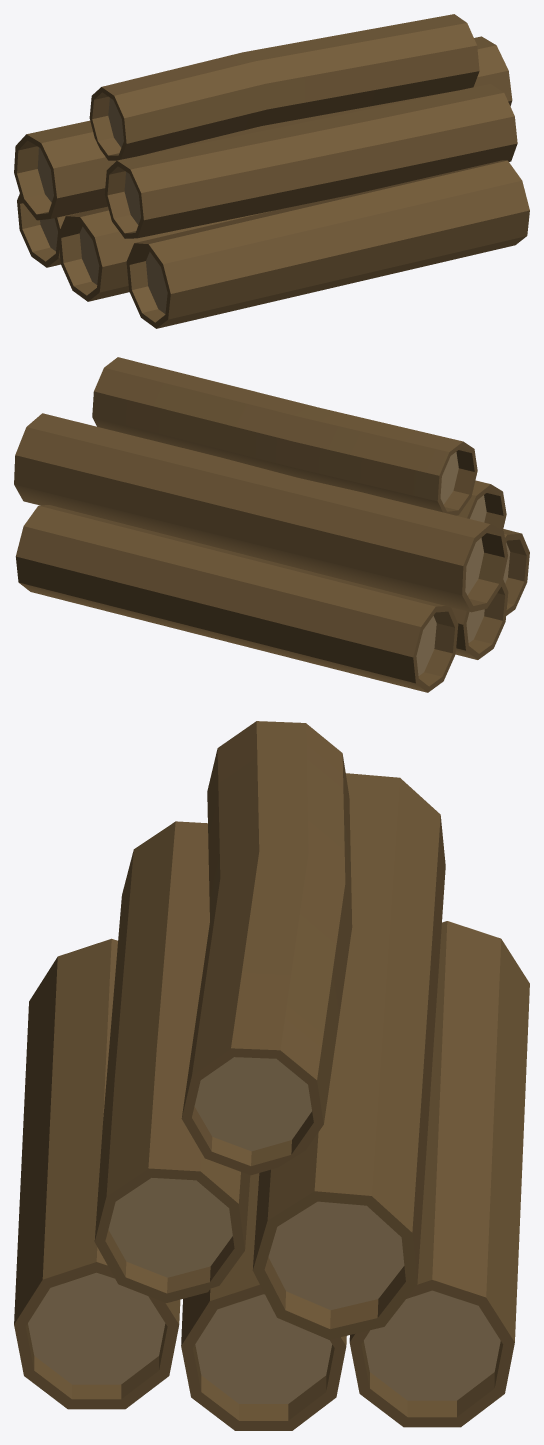
Rendered from model_polytope_logs.fbx.
3 views of the same model, one above another, from view 1: azimuth 30°, elevation 25°; view 2: azimuth 150°, elevation 25°; view 3: azimuth 270°, elevation 25° (orthographic). The views are drawn at different scales.
Parts seen in each view (by area): view 1: model_polytope_logs; view 2: model_polytope_logs; view 3: model_polytope_logs.
Part boxes in pixels (x1,y1,x2,y2): model_polytope_logs: (14, 14, 529, 328); model_polytope_logs: (14, 357, 529, 692); model_polytope_logs: (14, 721, 529, 1430).
Size of the model in its own units: 261 by 110 by 139.
